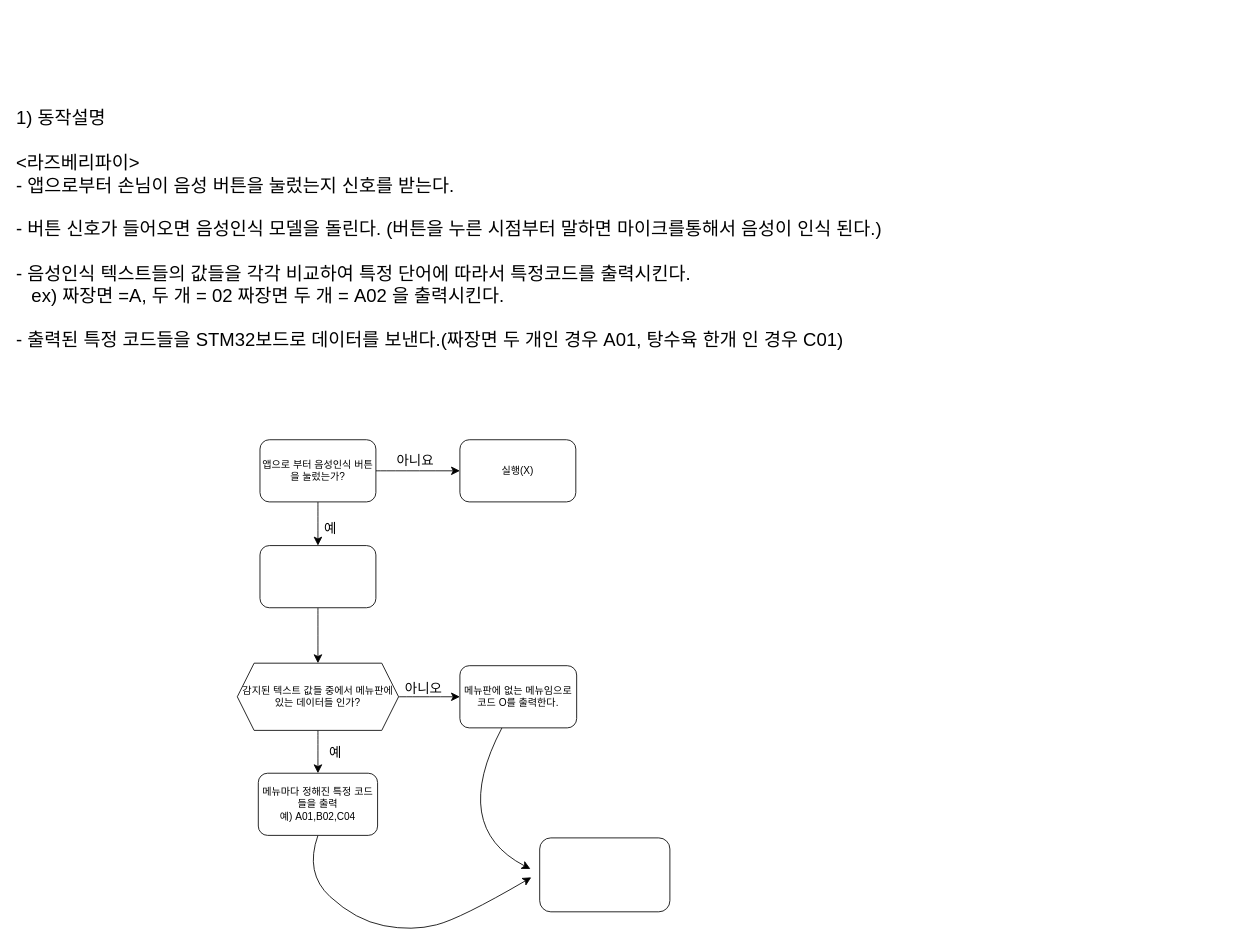
Some shapes in this 1258 by 943 pixel diagram are drawn without their labels. Here are the shapes that lost their labels. From the top down, the box of each, then its label:
(259, 545, 376, 608): 음성인식 모델을 실행하여 텍스트 데이터를 입력 받는다.
(539, 837, 670, 912): STM32 보드로 특정 코드 데이터를 보낸다.
